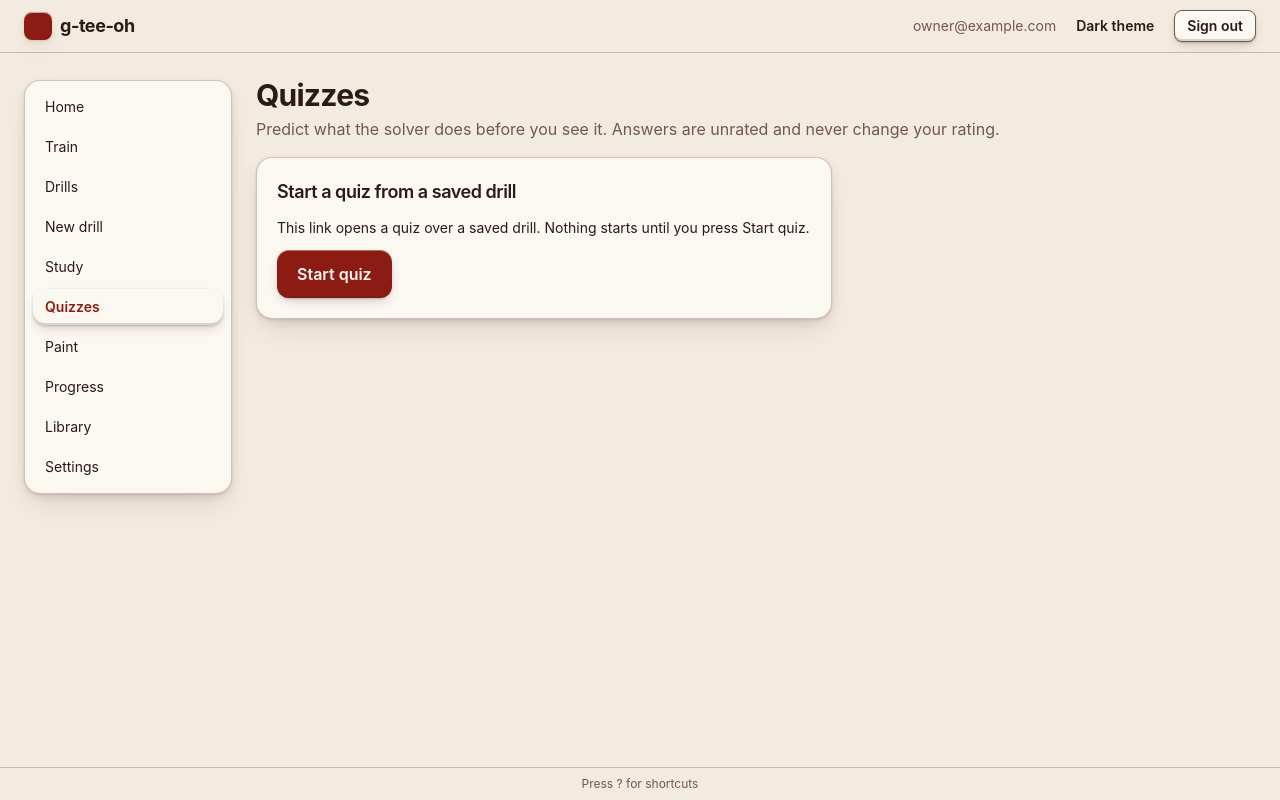
Scenario: R3.16 /quiz answers and results › R3.16 a wrong answer says so with a symbol and no unlock banner
Click the button "Start quiz".
click(334, 274)  # box [277,250,392,298]
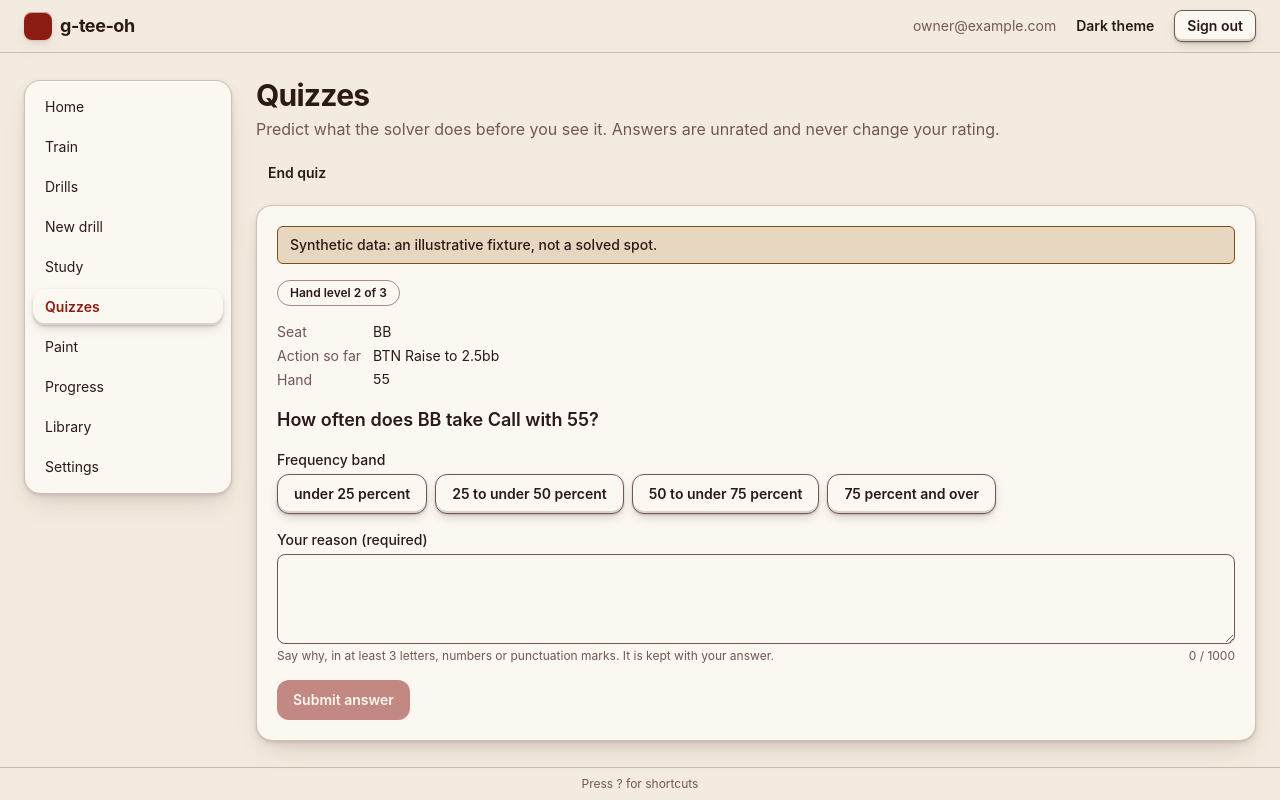
Click the button "under 25 percent".
click(352, 494)  # box [277,474,427,514]
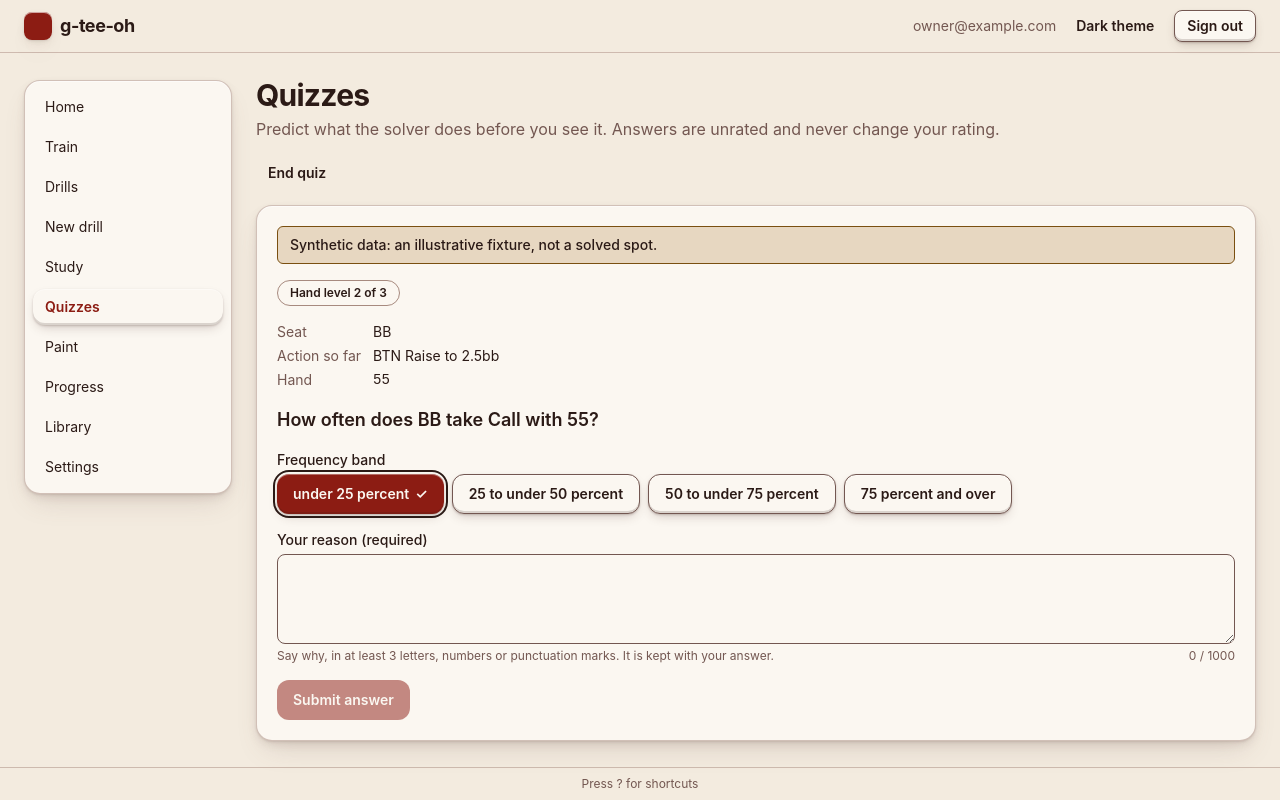
Type "Facing a small open, the price is good." into the text box labelled "Your reason (required)".
click(756, 599); type("Facing a small open, the price is good.")  # box [277,554,1235,644]
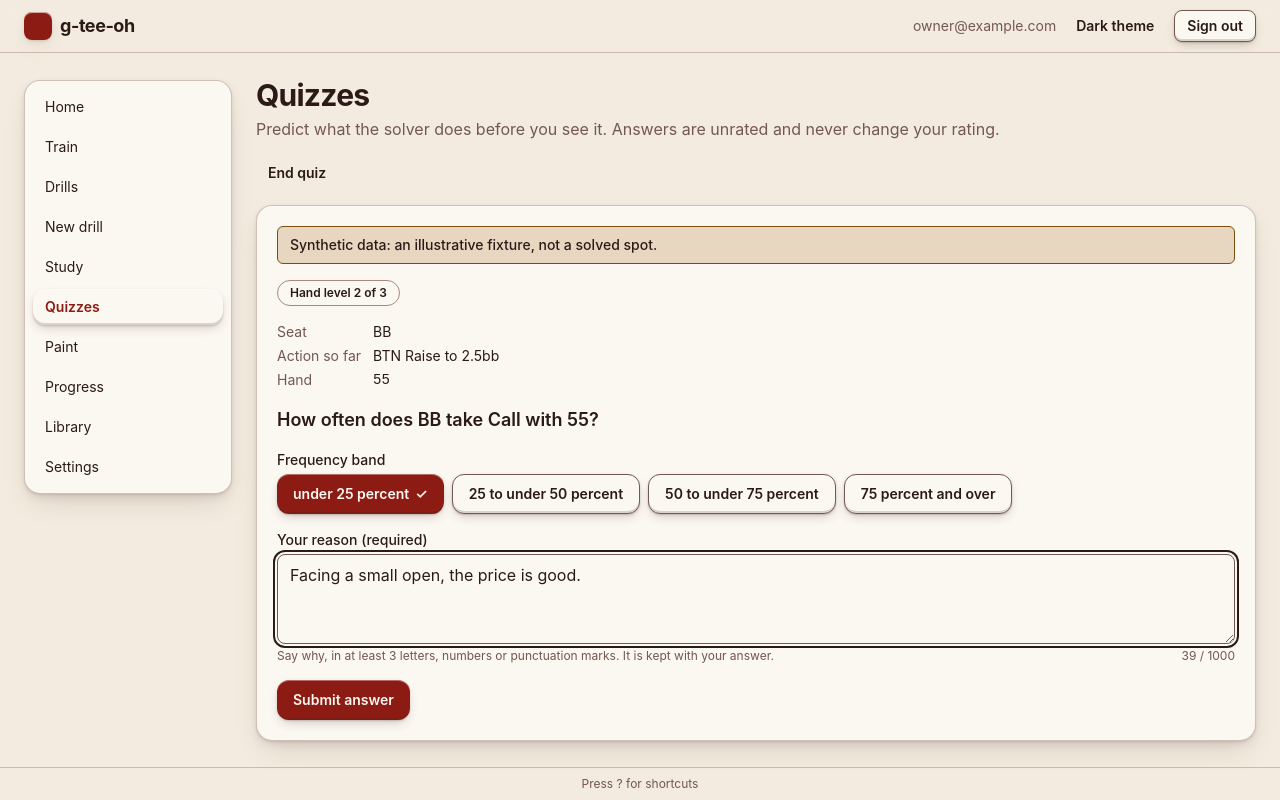
Click the button "Submit answer".
click(343, 700)  # box [277,680,410,720]
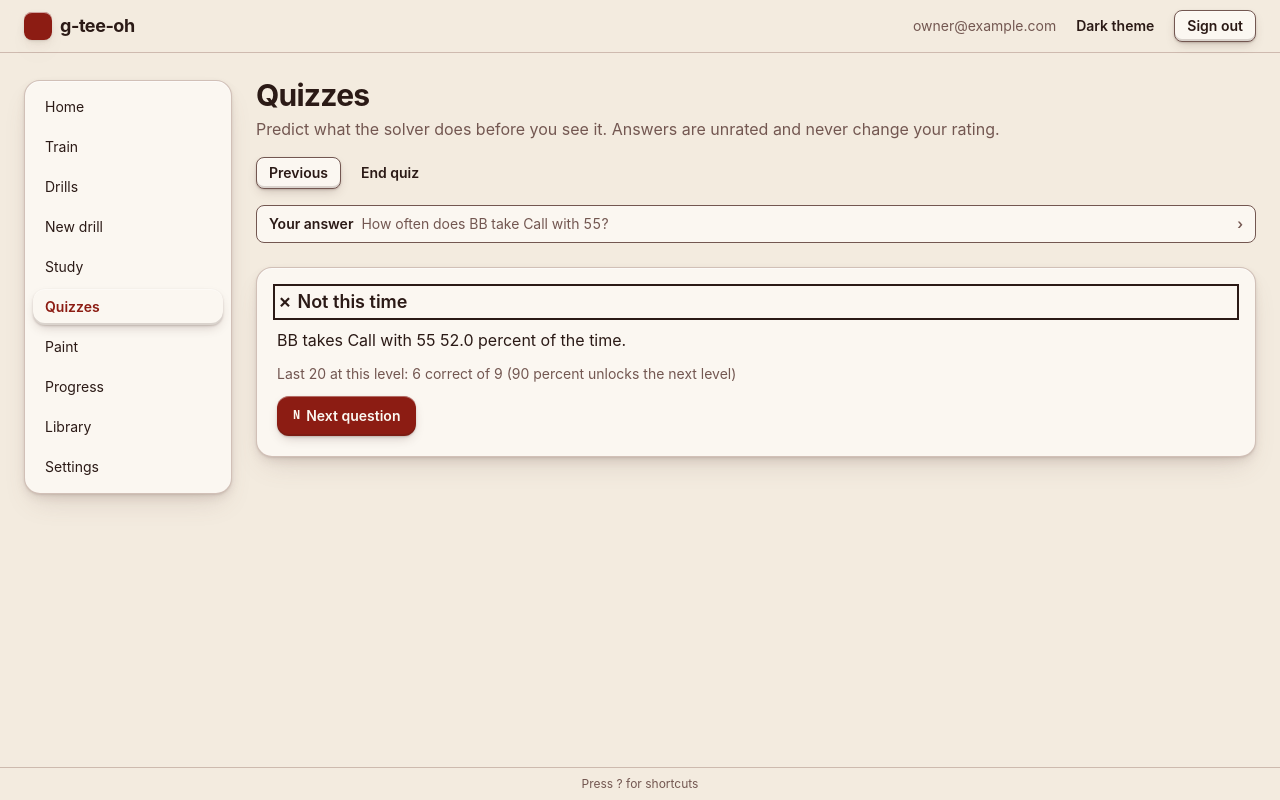
Expected: the message reads "✗ Not this time", [277,291,408,312]
